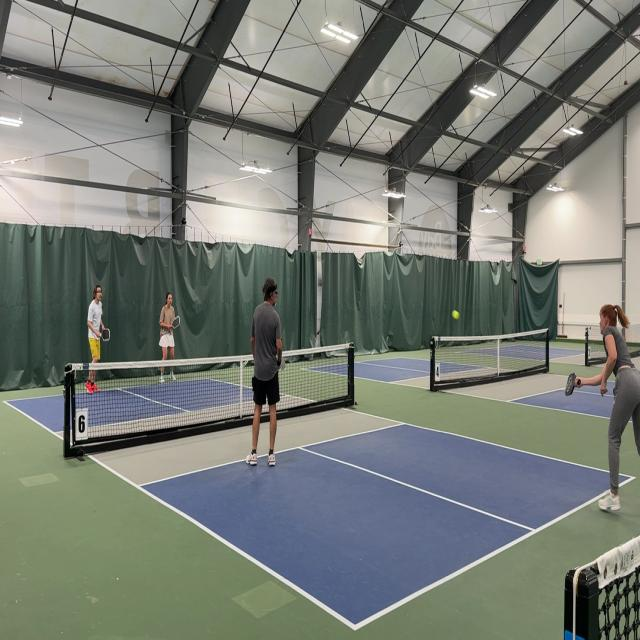ball: (451, 308, 460, 320)
